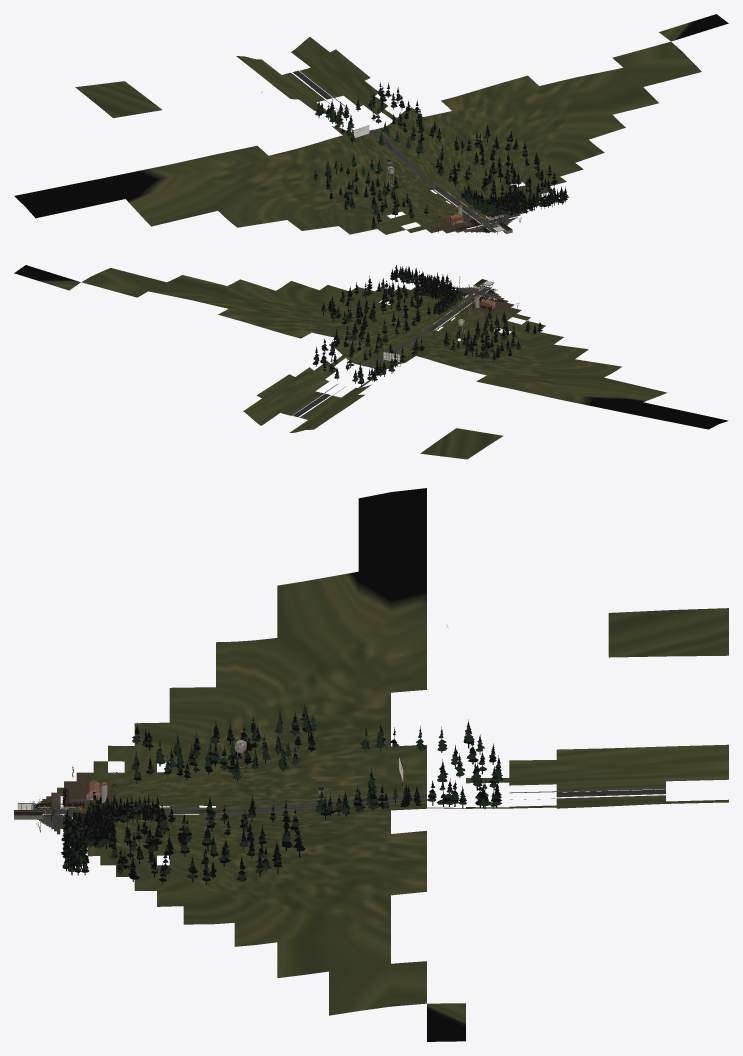
File: road.glb
3 views of the same model, one above another, from view 1: azimuth 30°, elevation 25°; view 2: azimuth 150°, elevation 25°; view 3: azimuth 270°, elevation 25° (orthographic). The views are drawn at different scales.
Visible parts, largest first — view 1: ground.dirt, static.trees.wood, ground.asphalt; view 2: ground.dirt, static.trees.wood, ground.asphalt; view 3: ground.dirt, static.trees.wood, ground.asphalt.
Part boxes in pixels (box(x1,y1,x2,y2)): ground.dirt: box(14, 14, 728, 234); static.trees.wood: box(313, 82, 569, 232); ground.asphalt: box(293, 71, 517, 232); ground.dirt: box(14, 265, 728, 459); static.trees.wood: box(312, 265, 542, 385); ground.asphalt: box(293, 287, 491, 416); ground.dirt: box(34, 488, 728, 1041); static.trees.wood: box(36, 705, 503, 884); ground.asphalt: box(33, 790, 665, 834).
Bounding box in the file's own units: 1040 × 96.93 × 571.
Materials: 10 (7 with a texture image).
